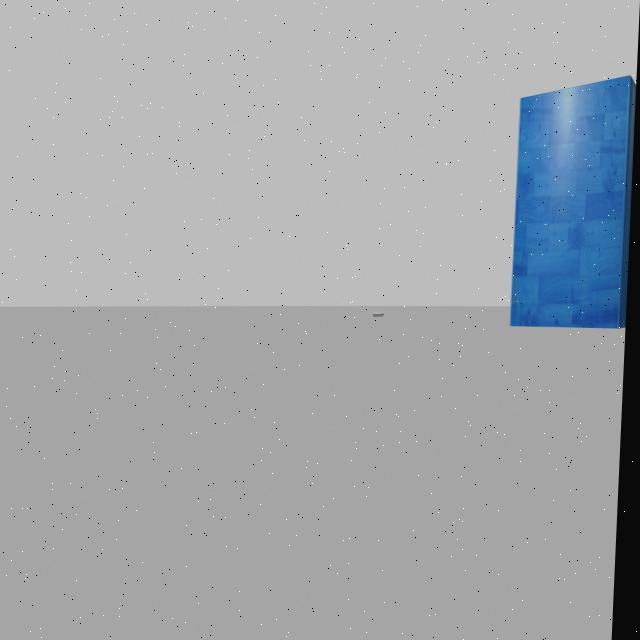bowl: (372, 304, 394, 328)
shelf: (502, 66, 638, 352)
